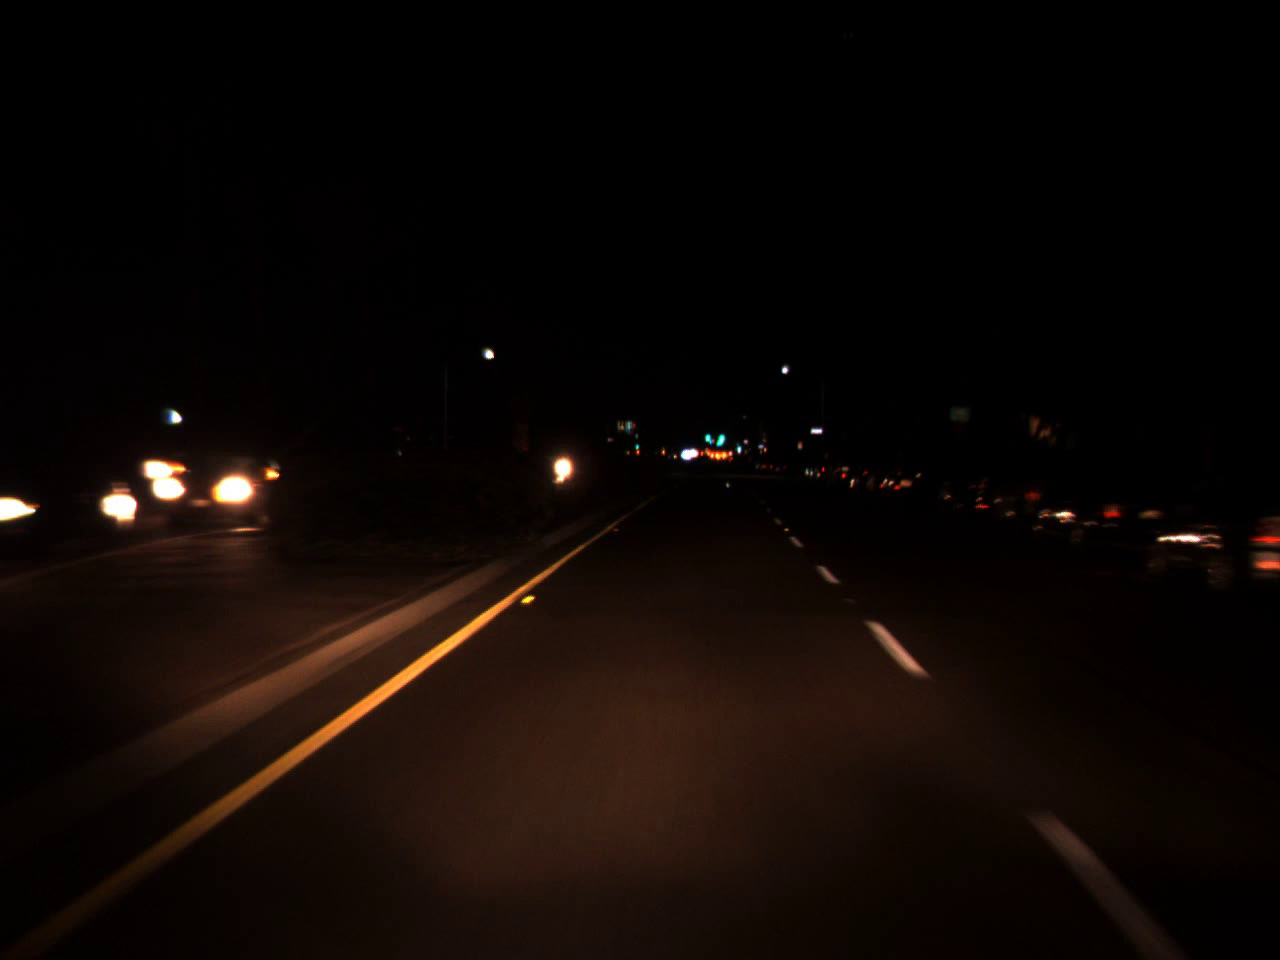go: (703, 424, 712, 445), (715, 429, 724, 444), (735, 441, 742, 453)
